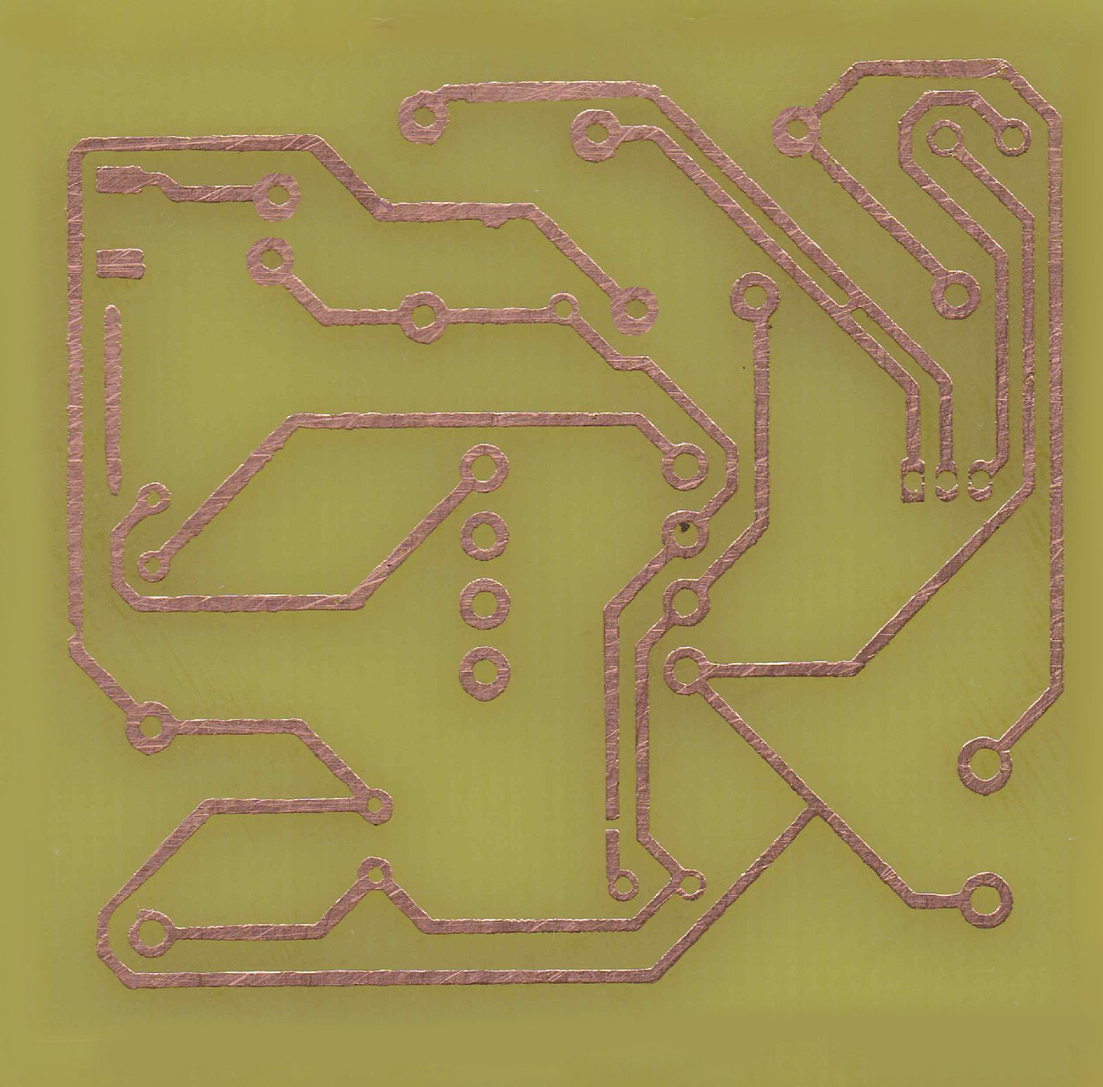missing_hole: (929, 458, 964, 505)
mouse_bite: (64, 615, 89, 646)
open_circuit: (598, 808, 626, 840)
short: (828, 289, 874, 319)
spur: (476, 195, 511, 232)
spurious_copper: (101, 299, 128, 501)
